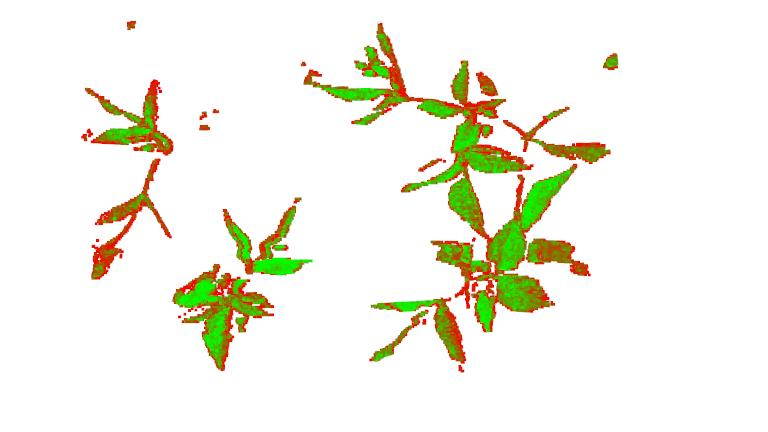mungbean: (306, 16, 621, 229), (368, 163, 581, 372), (69, 72, 181, 288), (169, 198, 308, 370)
